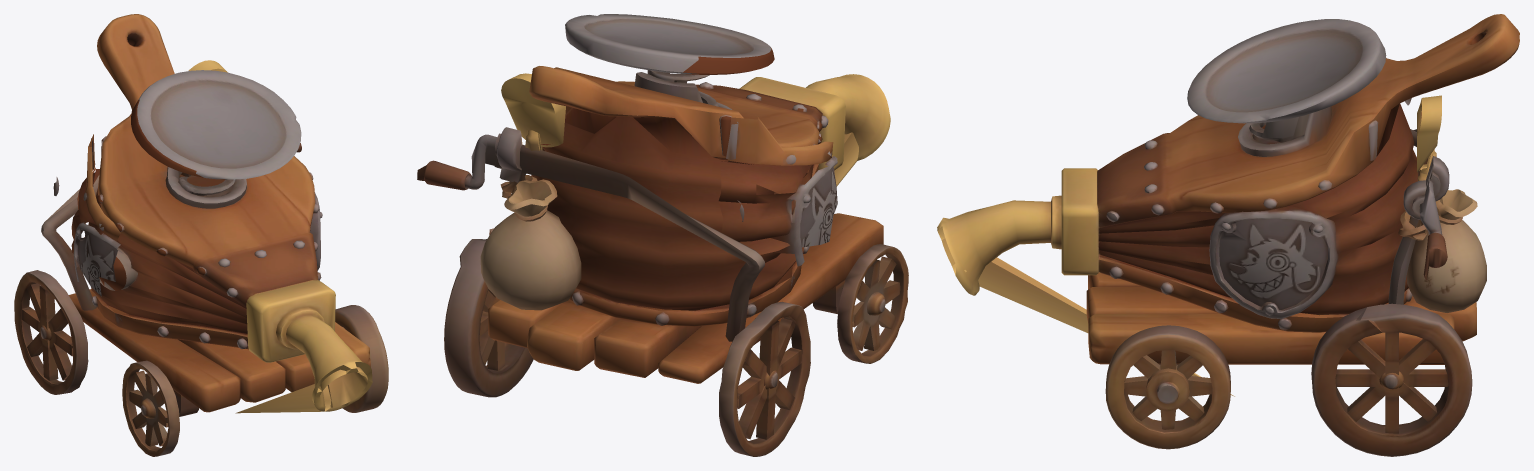
The model's file is bellows_machine_v3_busted.glb.
3 renders of one model, left to right at view 1: azimuth 30°, elevation 25°; view 2: azimuth 150°, elevation 25°; view 3: azimuth 270°, elevation 25°, orthographic. The views are drawn at different scales.
Parts seen in each view (by area): view 1: bellows_machine_v2; view 2: bellows_machine_v2; view 3: bellows_machine_v2.
Boxes of the visible parts, bbox=[...] form: bellows_machine_v2: bbox=[14, 14, 388, 456]; bellows_machine_v2: bbox=[417, 14, 908, 456]; bellows_machine_v2: bbox=[937, 14, 1519, 456].
Size of the model in its own units: 2.96 by 3.21 by 4.48.
1 material, 1 textured.
